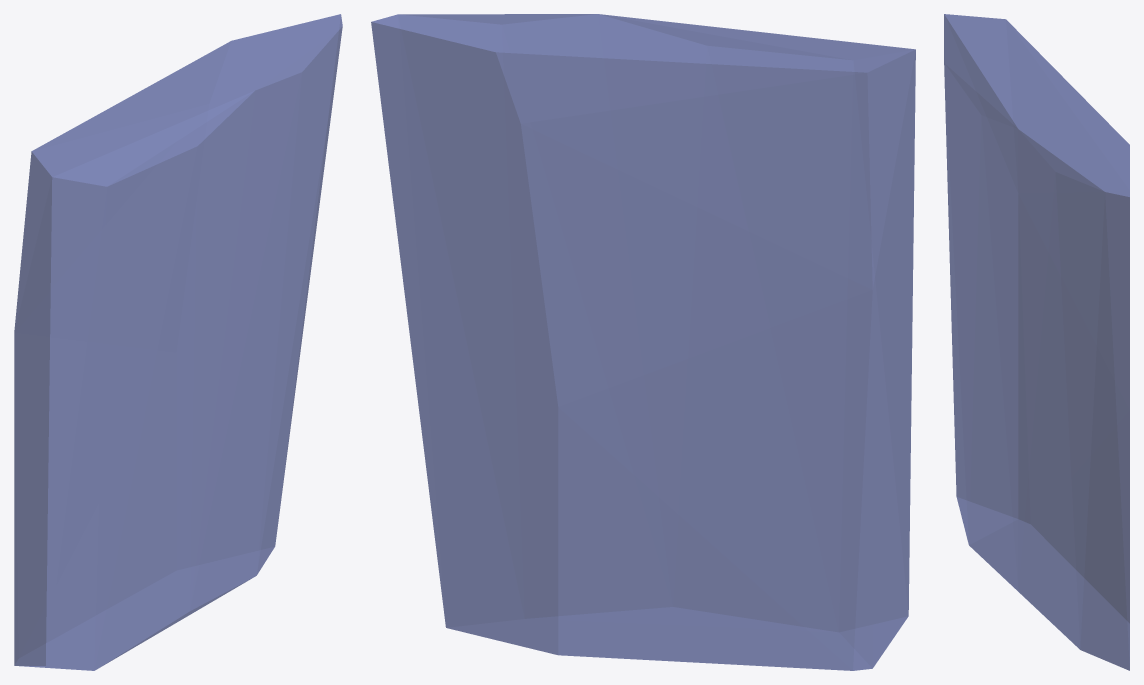
3 renders of one model, left to right at view 1: azimuth 30°, elevation 25°; view 2: azimuth 150°, elevation 25°; view 3: azimuth 270°, elevation 25°, orthographic. The views are drawn at different scales.
Parts seen in each view (by area): view 1: Shape_IndexedFaceSet.025_Shape_IndexedFaceSet.4579; view 2: Shape_IndexedFaceSet.025_Shape_IndexedFaceSet.4579; view 3: Shape_IndexedFaceSet.025_Shape_IndexedFaceSet.4579.
Part boxes in pixels (left/top/right/bottom): Shape_IndexedFaceSet.025_Shape_IndexedFaceSet.4579: left=14, top=14, right=342, bottom=670; Shape_IndexedFaceSet.025_Shape_IndexedFaceSet.4579: left=371, top=14, right=915, bottom=670; Shape_IndexedFaceSet.025_Shape_IndexedFaceSet.4579: left=944, top=14, right=1129, bottom=670.
Bounding box in the file's own units: 0.0532 × 0.0683 × 0.0228.
